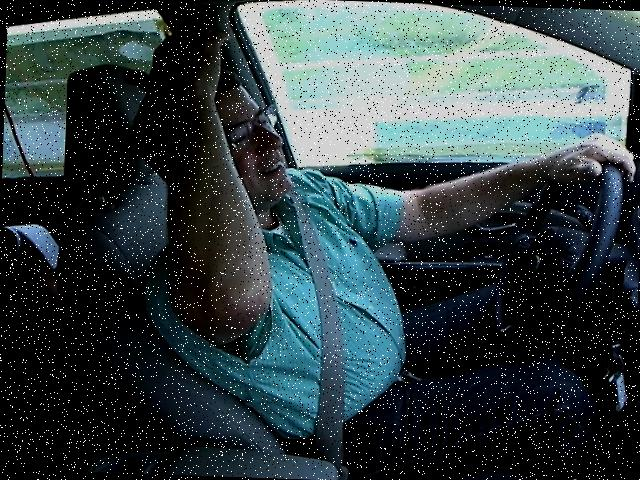c6 - Hair and Makeup: (121, 18, 640, 360)
